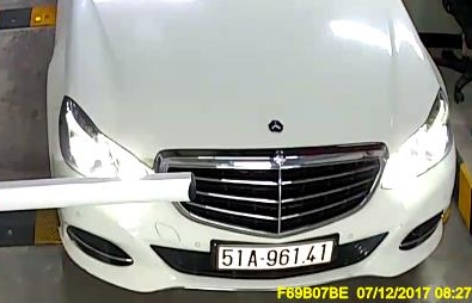plate: (211, 232, 350, 283)
